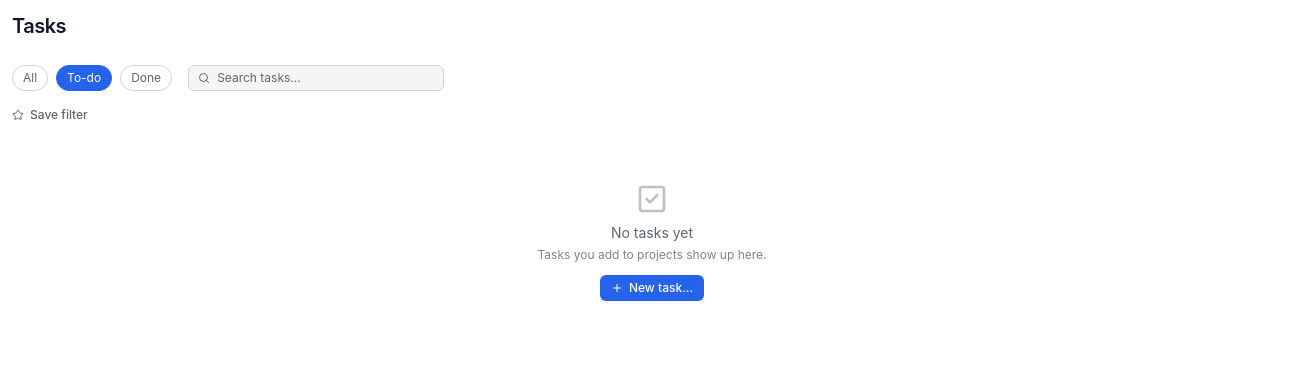
Test case: TasksPage first-run project group › is reset once the first task exists: a filter that hides it shows 'no matching tasks'
Click the button "New task...": (652, 288) [600,275,704,301]
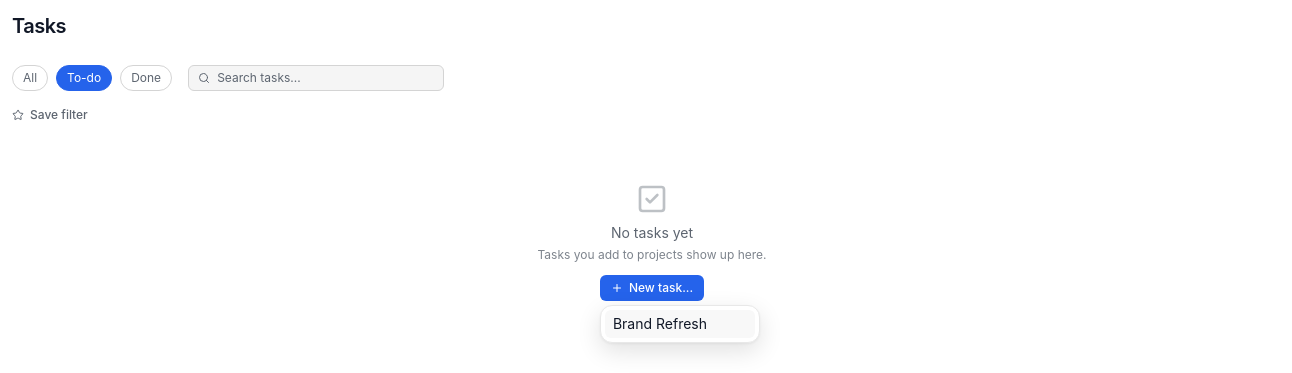
Click the menu item "Brand Refresh": (680, 324) [605,310,755,338]
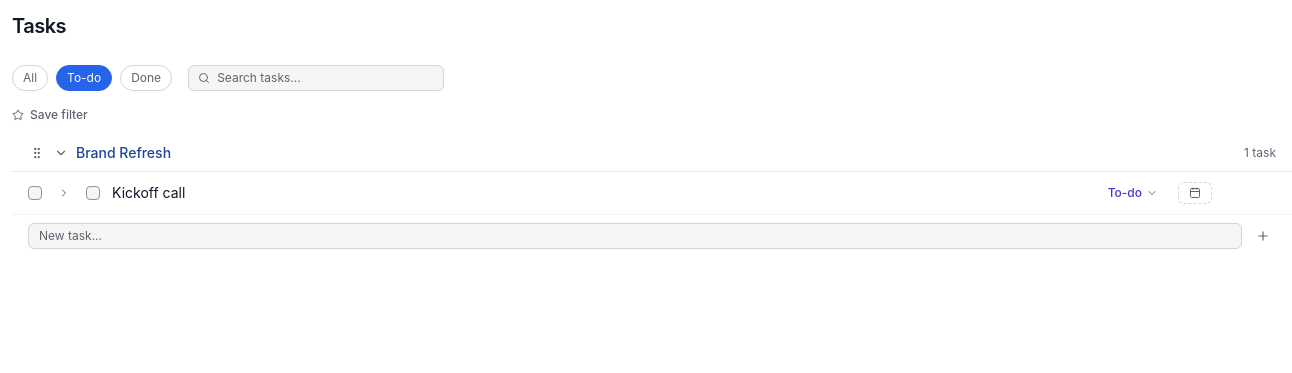
Expected: the text "Kickoff call" is shown, [112,184,185,201]
Click the button "Done": (146, 78) [120,64,172,90]
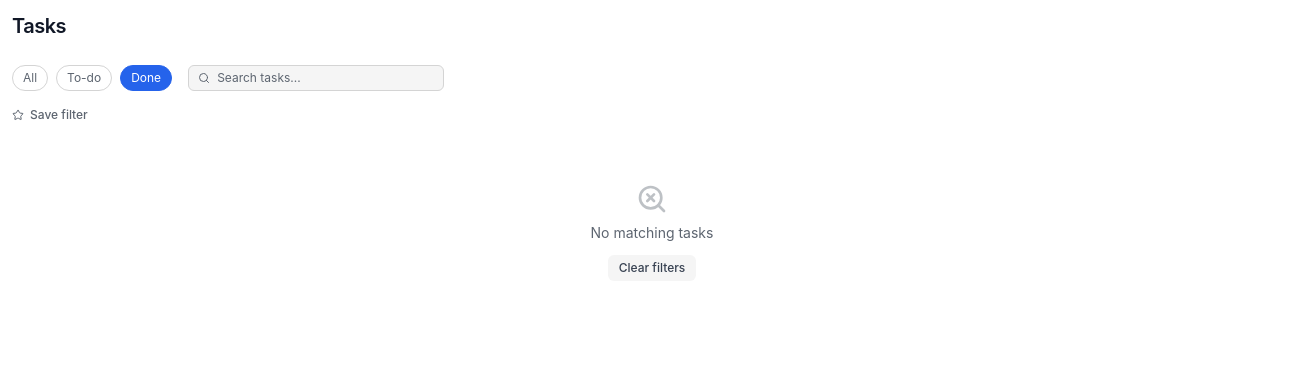
Expected: the button with placeholder "New task..." is not shown
Expected: the text "No matching tasks" is shown, [590,223,713,243]
